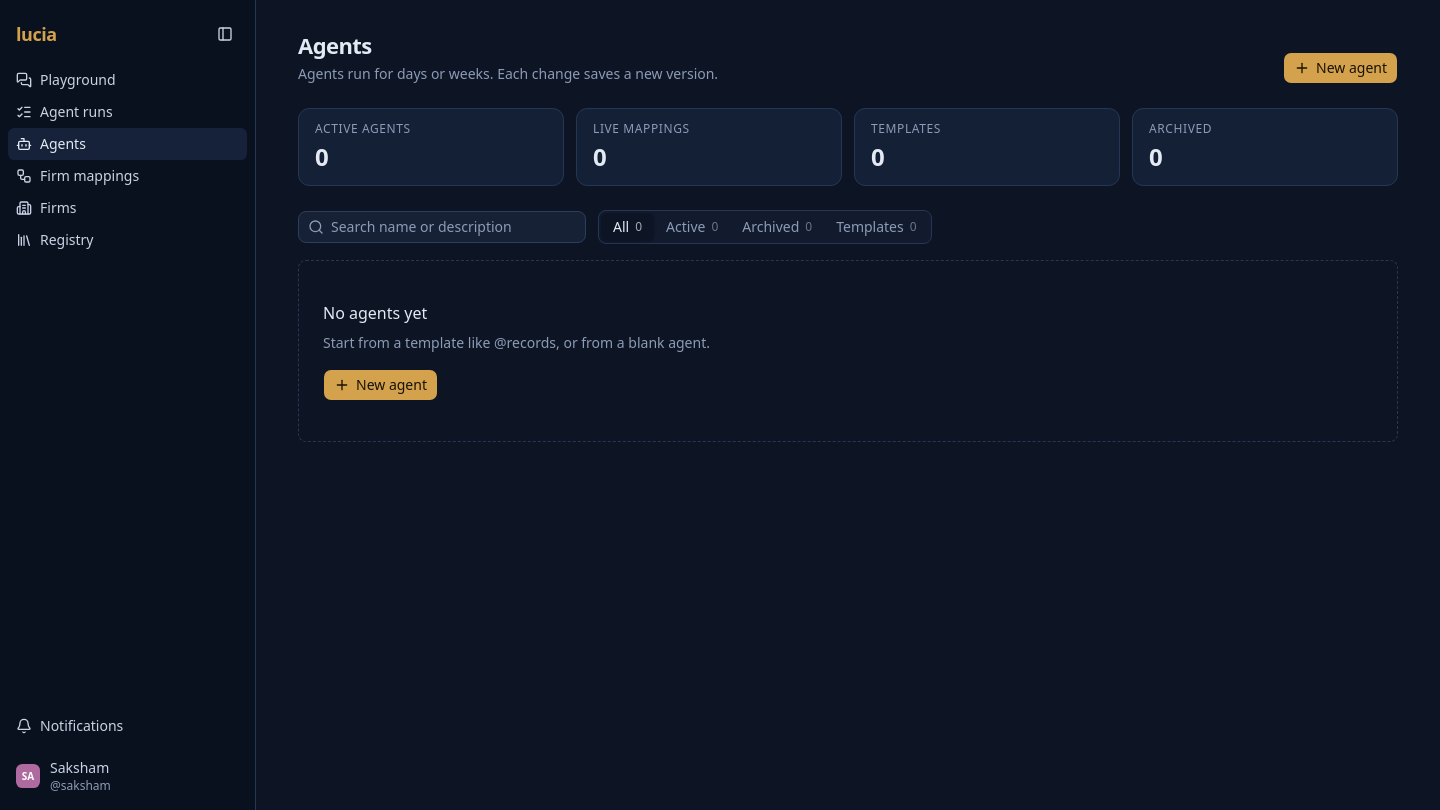
notification bell › nothing new
Click the button "Notifications": (128, 726) [8, 710, 247, 742]
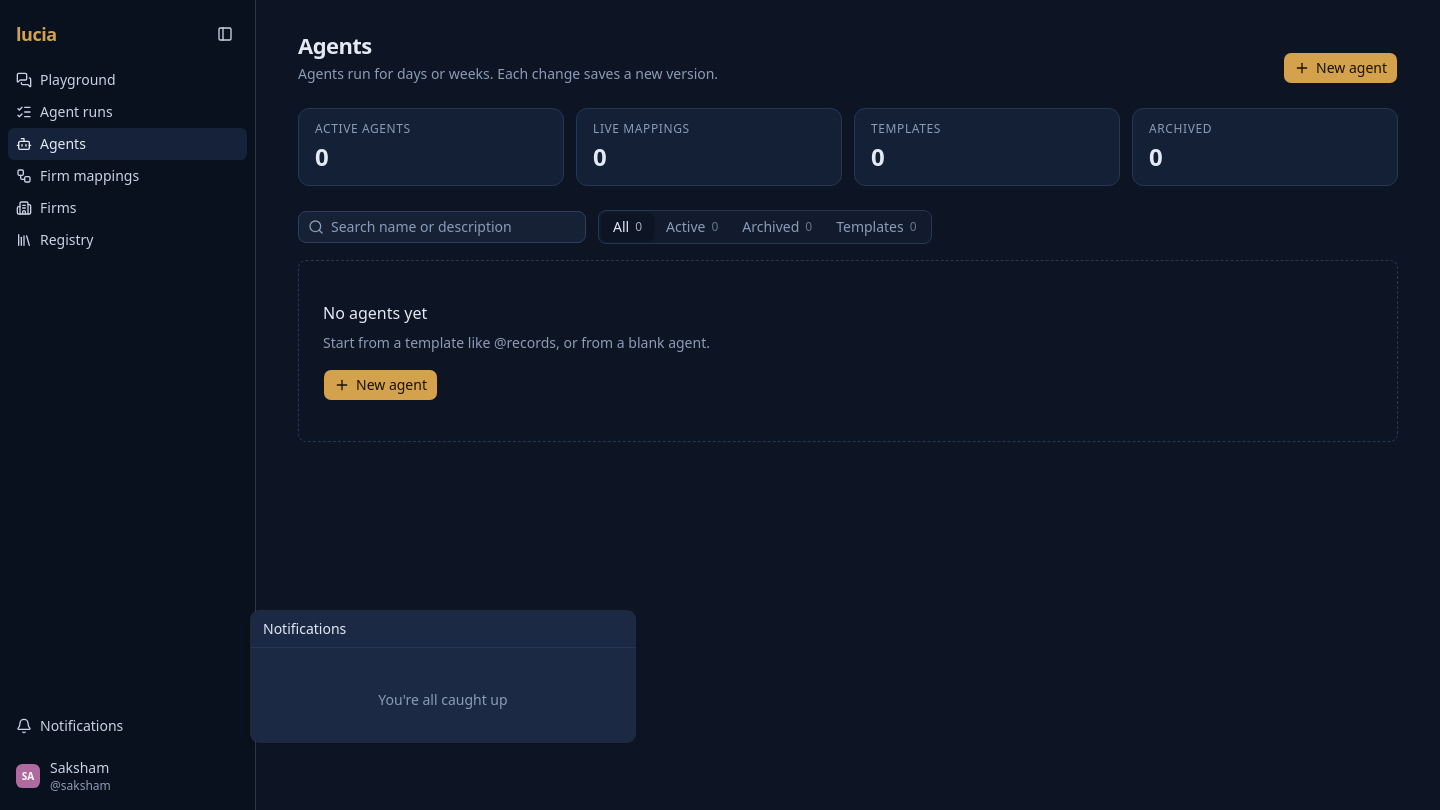
Expected: the text "You're all caught up" is shown, [378, 690, 508, 709]
